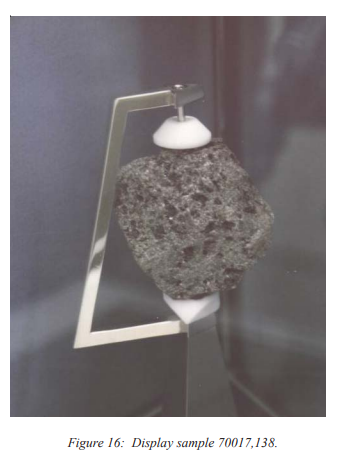Basalt: (110, 172, 275, 277)
